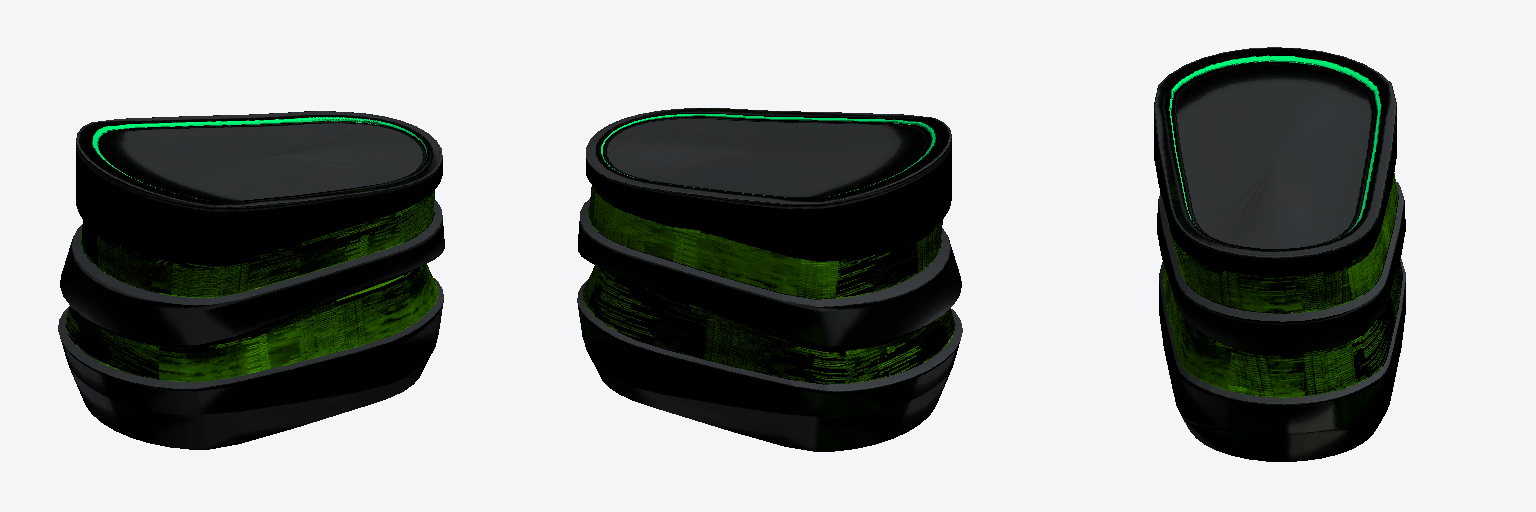
The picture shows the model from 3 angles: view 1: azimuth 30°, elevation 25°; view 2: azimuth 150°, elevation 25°; view 3: azimuth 270°, elevation 25°; orthographic projection.
Visible parts, largest first — view 1: Circle.001_Circle.004; view 2: Circle.001_Circle.004; view 3: Circle.001_Circle.004.
Boxes of the visible parts, x1,y1,x2,y2 form: Circle.001_Circle.004: [58, 111, 444, 449]; Circle.001_Circle.004: [577, 108, 962, 451]; Circle.001_Circle.004: [1154, 47, 1405, 461].
Size of the model in its own units: 3.3 by 2.33 by 2.05.
3 materials, 1 textured.